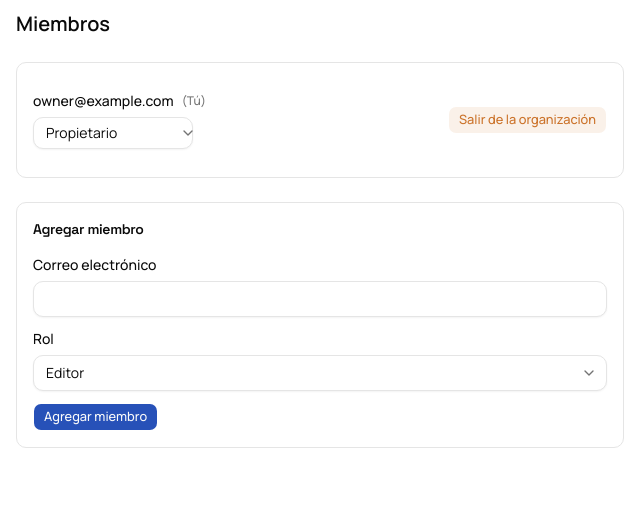
Test case: MembersPage › a 409 role change on the sole owner renders inline on that row only, list unchanged
Expected: the text "owner@example.com" is shown, [33, 91, 174, 111]
Step 1. Select "Editor" in the 1st dropdown → {"x": 113, "y": 133}, box [33, 117, 193, 149]
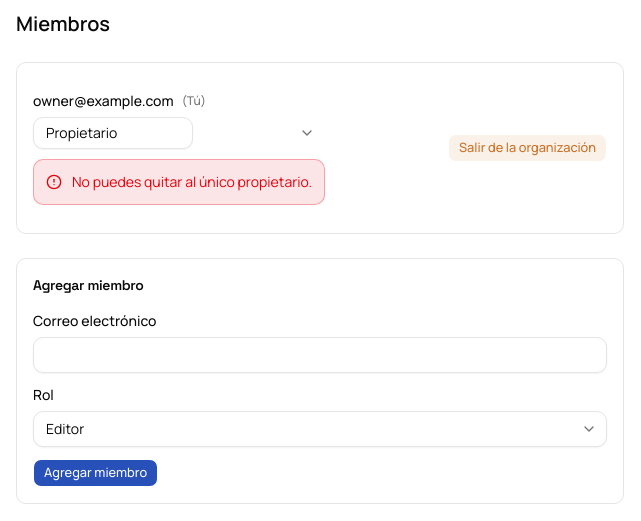
Expected: the number of list items is 1, [33, 79, 607, 217]
Expected: the message reads "No puedes quitar al único propietario.", [72, 172, 312, 191]
